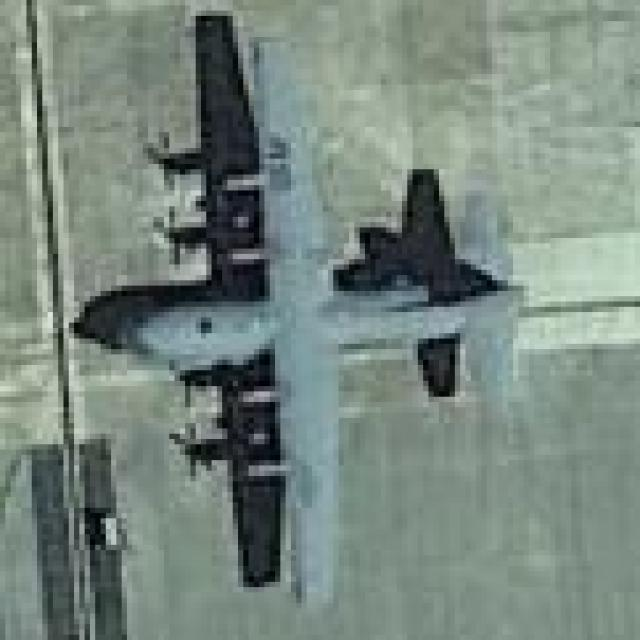C-130_TopDown: (67, 11, 535, 608)
